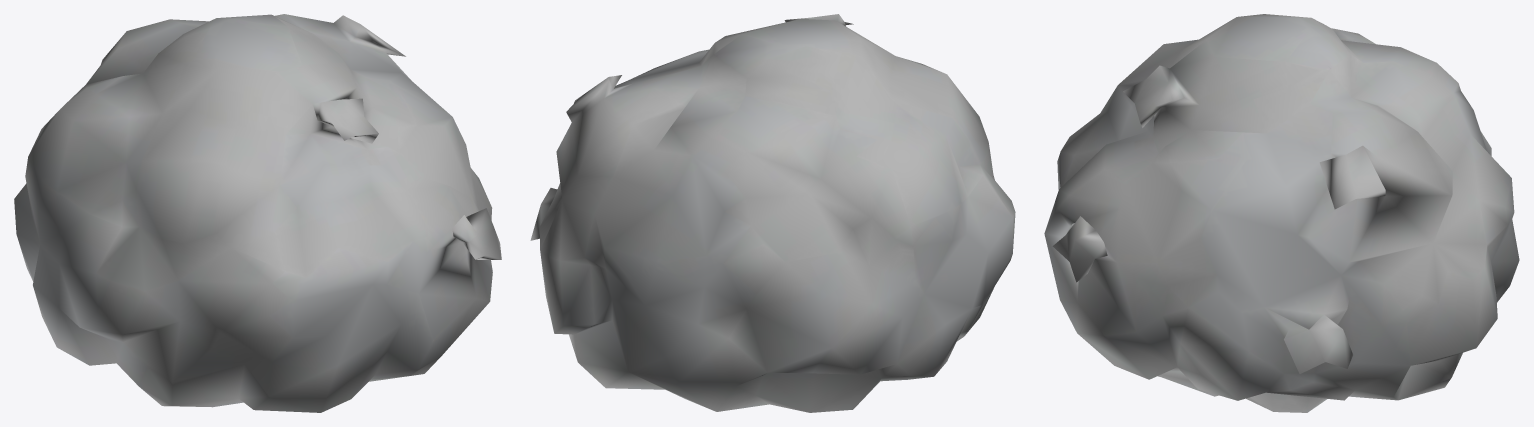
Rendered from bush.glb.
3 views of the same model, side by side, from view 1: azimuth 30°, elevation 25°; view 2: azimuth 150°, elevation 25°; view 3: azimuth 270°, elevation 25° (orthographic). The views are drawn at different scales.
Parts seen in each view (by area): view 1: tripo_node_72ac2488-a8f2-4cfb-9590-b0675e5c0050; view 2: tripo_node_72ac2488-a8f2-4cfb-9590-b0675e5c0050; view 3: tripo_node_72ac2488-a8f2-4cfb-9590-b0675e5c0050.
Boxes of the visible parts, box(x1,y1,x2,y2) form: tripo_node_72ac2488-a8f2-4cfb-9590-b0675e5c0050: box(14, 14, 501, 412); tripo_node_72ac2488-a8f2-4cfb-9590-b0675e5c0050: box(530, 14, 1015, 412); tripo_node_72ac2488-a8f2-4cfb-9590-b0675e5c0050: box(1044, 14, 1519, 412).
Size of the model in its own units: 0.9932 by 0.7474 by 1.
1 material, 1 textured.
